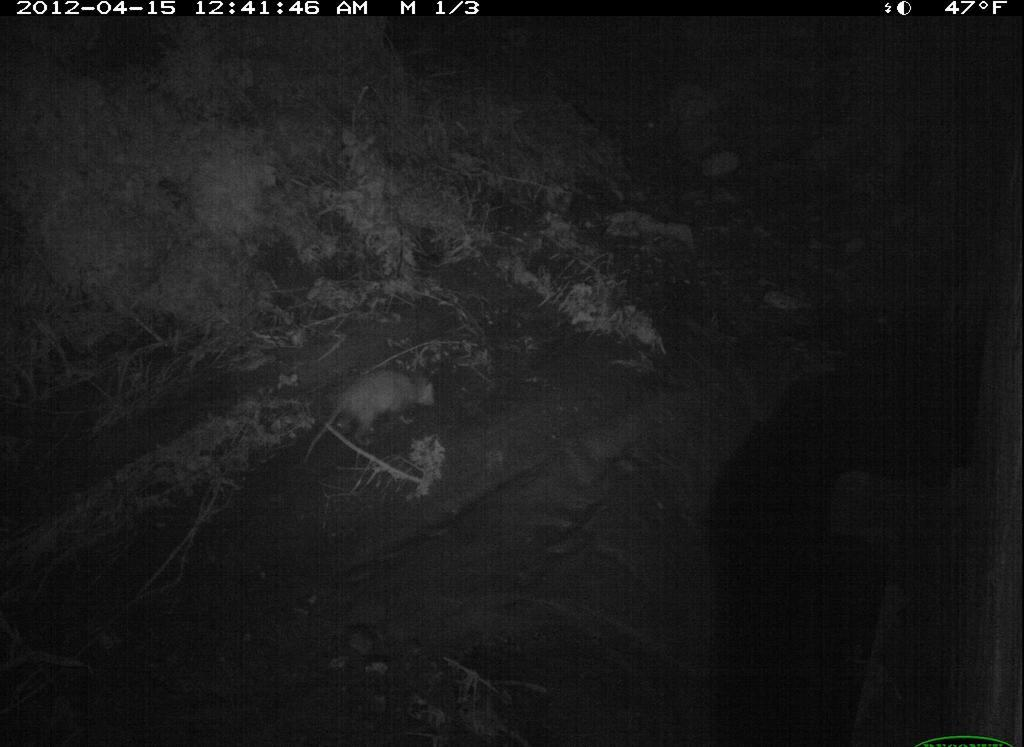opossum: (296, 369, 442, 469)
